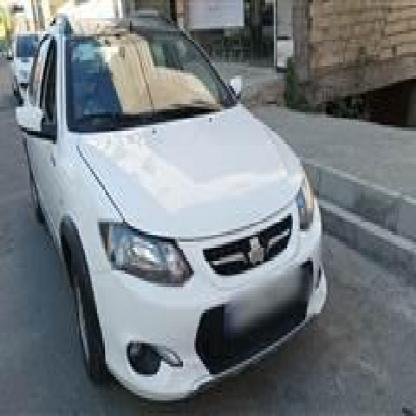Car: (19, 11, 329, 400), (3, 23, 44, 107)
